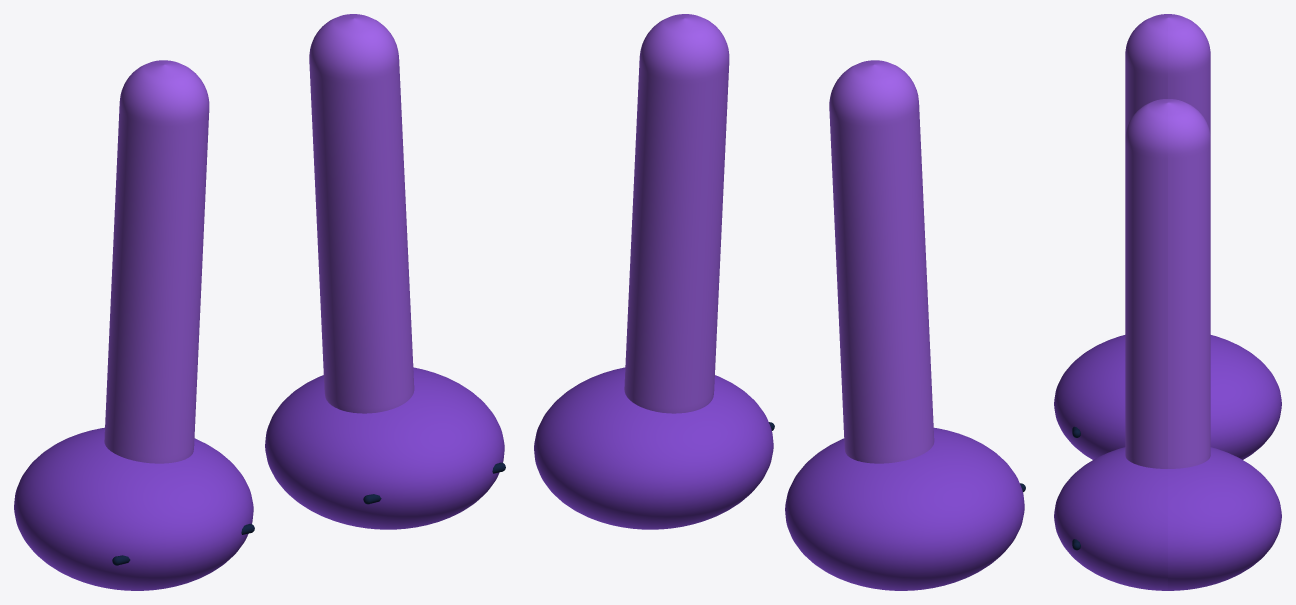
Rendered from long.glb.
3 views of the same model, side by side, from view 1: azimuth 30°, elevation 25°; view 2: azimuth 150°, elevation 25°; view 3: azimuth 270°, elevation 25° (orthographic). The views are drawn at different scales.
Visible parts, largest first — view 1: long_-100_solid, long_-101_solid, long_-102_solid, long_-103_solid; view 2: long_-100_solid, long_-101_solid, long_-102_solid, long_-103_solid; view 3: long_-101_solid, long_-103_solid, long_-102_solid, long_-100_solid.
Part boxes in pixels (x1,y1,x2,y2): long_-100_solid: (104, 60, 209, 463); long_-101_solid: (309, 14, 414, 413); long_-102_solid: (14, 427, 253, 590); long_-103_solid: (265, 367, 504, 529); long_-100_solid: (829, 60, 934, 463); long_-101_solid: (624, 14, 729, 413); long_-102_solid: (785, 427, 1024, 590); long_-103_solid: (534, 367, 773, 529); long_-101_solid: (1125, 99, 1210, 468); long_-103_solid: (1054, 447, 1281, 590); long_-102_solid: (1054, 335, 1281, 459); long_-100_solid: (1125, 14, 1210, 135).
Bounding box in the file's own units: 0.356 × 0.3734 × 0.168.
